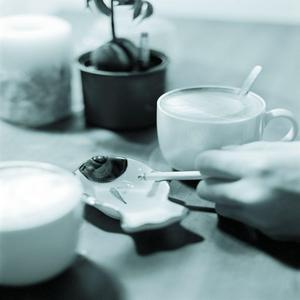cigarette: (136, 171, 219, 181)
